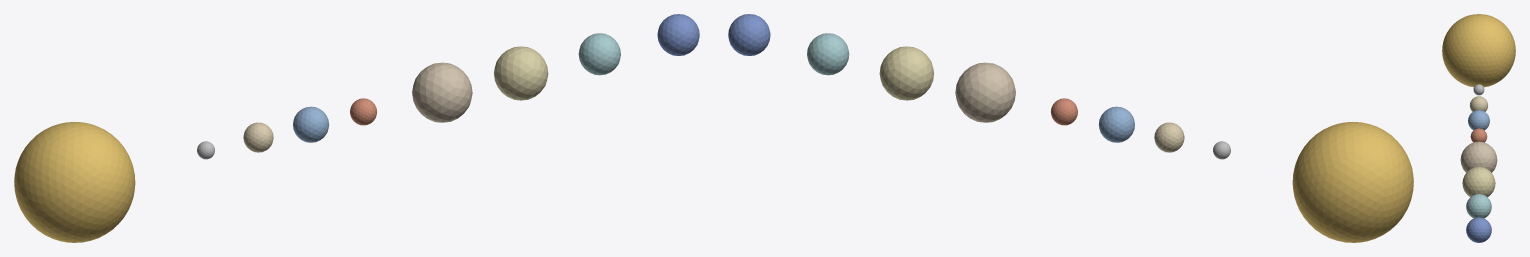
Rendered from solar_system.glb.
3 views of the same model, side by side, from view 1: azimuth 30°, elevation 25°; view 2: azimuth 150°, elevation 25°; view 3: azimuth 270°, elevation 25° (orthographic). The views are drawn at different scales.
Parts seen in each view (by area): view 1: Sun, Jupiter, Saturn, Neptune, Uranus, Earth, Venus, Mars; view 2: Sun, Jupiter, Saturn, Neptune, Uranus, Earth, Venus, Mars; view 3: Sun, Jupiter, Saturn, Neptune, Uranus, Earth, Venus, Mars, Mercury.
Boxes of the visible parts, box(x1,y1,x2,y2) form: Sun: box(14, 122, 135, 242); Jupiter: box(412, 62, 472, 122); Saturn: box(494, 46, 548, 100); Neptune: box(657, 14, 699, 55); Uranus: box(578, 33, 620, 75); Earth: box(293, 106, 329, 142); Venus: box(243, 122, 273, 152); Mars: box(350, 98, 376, 125); Sun: box(1292, 122, 1413, 242); Jupiter: box(955, 62, 1015, 122); Saturn: box(879, 46, 933, 100); Neptune: box(728, 14, 770, 55); Uranus: box(807, 33, 849, 75); Earth: box(1098, 106, 1134, 142); Venus: box(1154, 122, 1184, 152); Mars: box(1051, 98, 1077, 125); Sun: box(1442, 14, 1515, 87); Jupiter: box(1460, 141, 1497, 172); Saturn: box(1462, 167, 1495, 197); Neptune: box(1466, 217, 1491, 242); Uranus: box(1466, 194, 1491, 218); Earth: box(1468, 110, 1489, 130); Venus: box(1469, 96, 1488, 111); Mars: box(1470, 128, 1487, 142); Mercury: box(1473, 84, 1484, 95).
Size of the model in its own units: 25.7 by 4 by 4.
